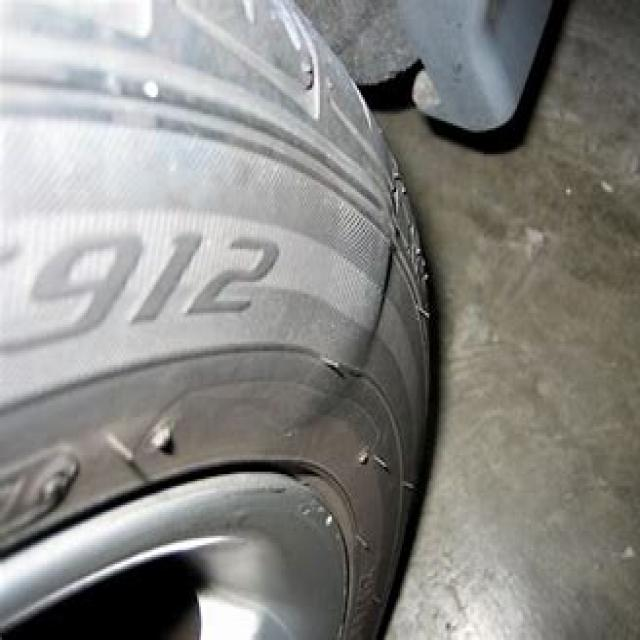Bulge: (276, 155, 406, 436)
